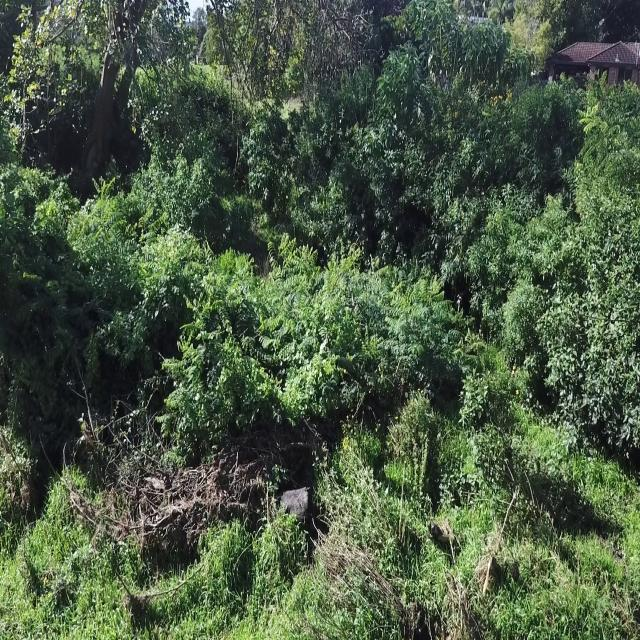Mysore-Thorn-Weed: (69, 170, 172, 307), (371, 253, 470, 383), (263, 230, 361, 358), (158, 327, 214, 469), (575, 90, 640, 184), (207, 250, 260, 310)
